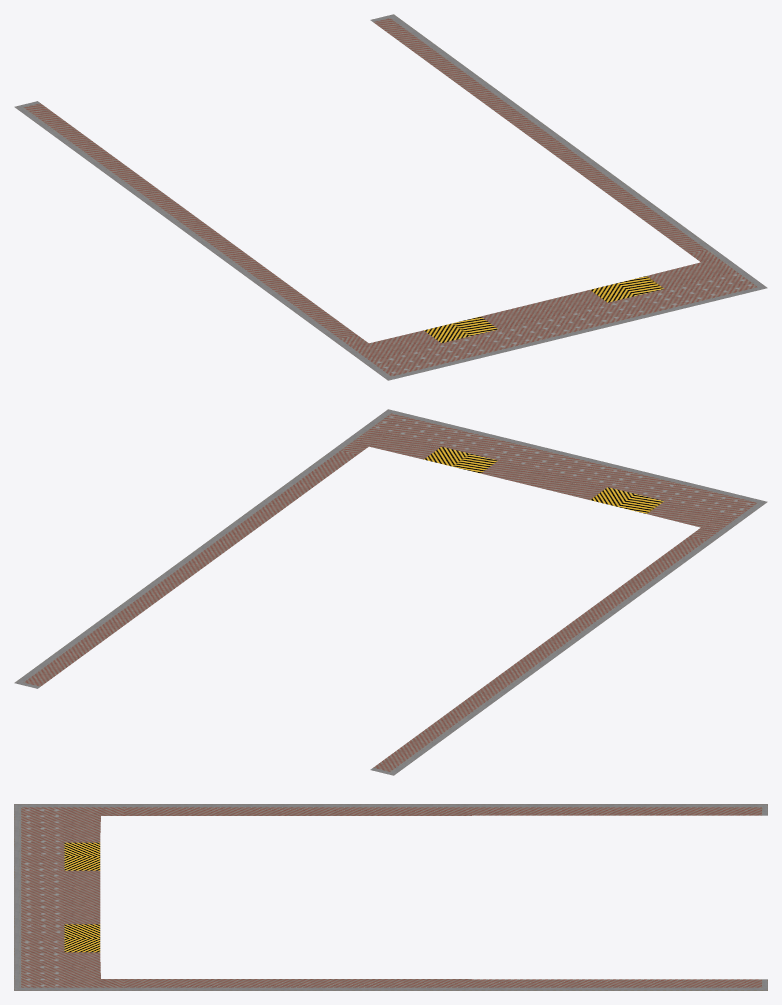
The model's file is wareHouseRoad.fbx.
3 views of the same model, one above another, from view 1: azimuth 30°, elevation 25°; view 2: azimuth 150°, elevation 25°; view 3: azimuth 270°, elevation 25° (orthographic).
Parts seen in each view (by area): view 1: wareHouseOuterFloor; view 2: wareHouseOuterFloor; view 3: wareHouseOuterFloor.
Boxes of the visible parts, x1,y1,x2,y2 form: wareHouseOuterFloor: (14,14,767,380); wareHouseOuterFloor: (14,409,767,775); wareHouseOuterFloor: (14,804,767,990).
Size of the model in its own units: 80 by 0 by 137.
